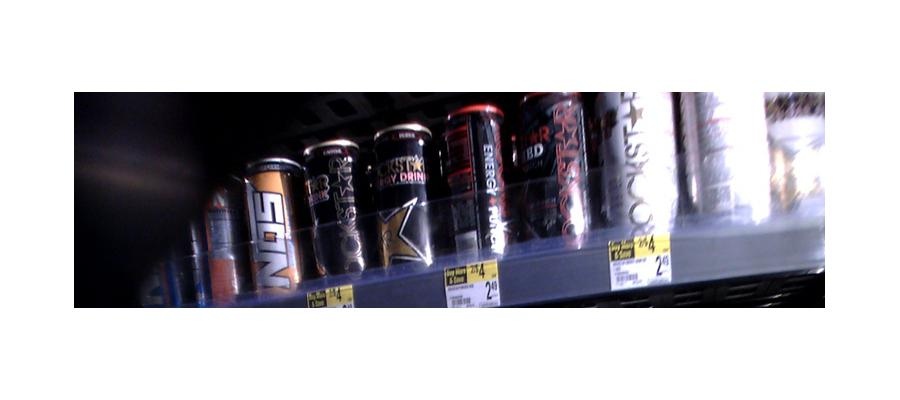bottle: (597, 93, 677, 254), (516, 93, 592, 243), (440, 104, 506, 263), (371, 121, 433, 274), (243, 152, 304, 291), (305, 142, 365, 276), (768, 94, 826, 223), (199, 170, 241, 307)
